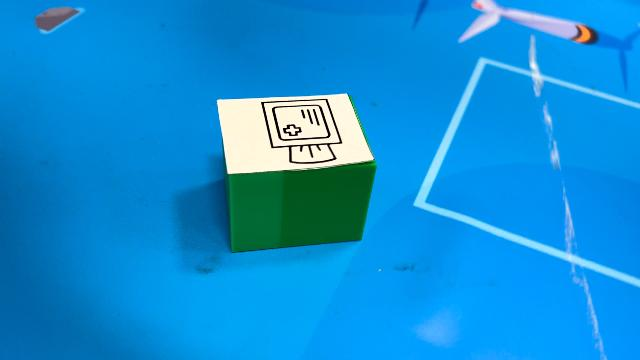napkin: (215, 92, 378, 254)
